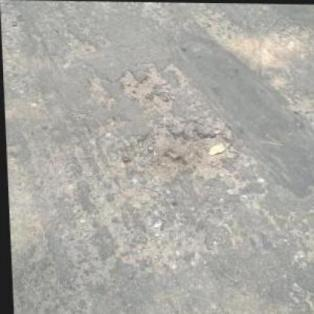Hueco: (127, 119, 238, 184), (117, 62, 189, 114)
